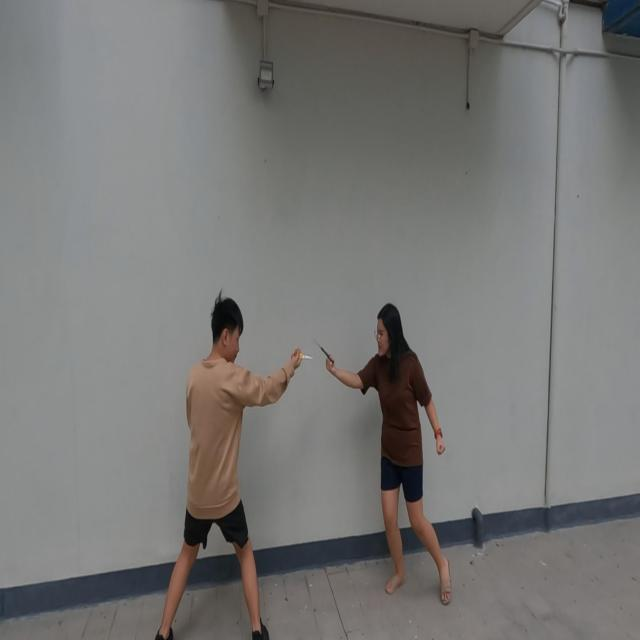scissor: (313, 336, 334, 365), (292, 347, 314, 368)
